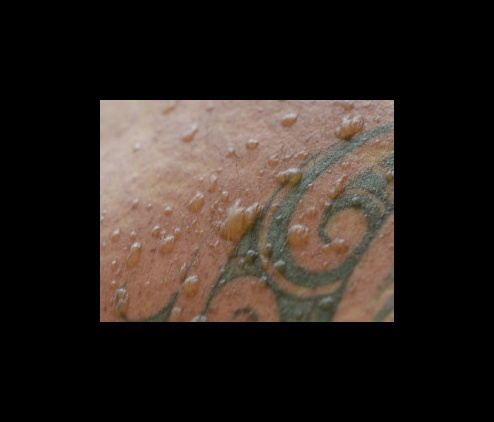SJS-TEN: (98, 92, 400, 322)
